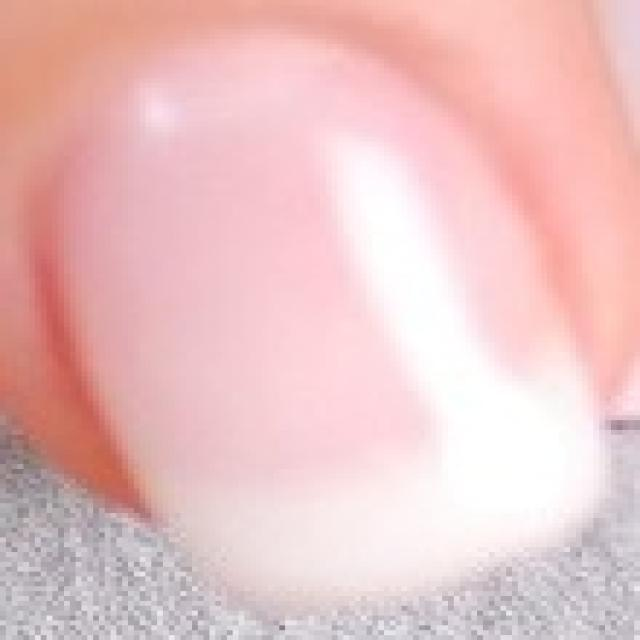Nail: (46, 29, 609, 613)
